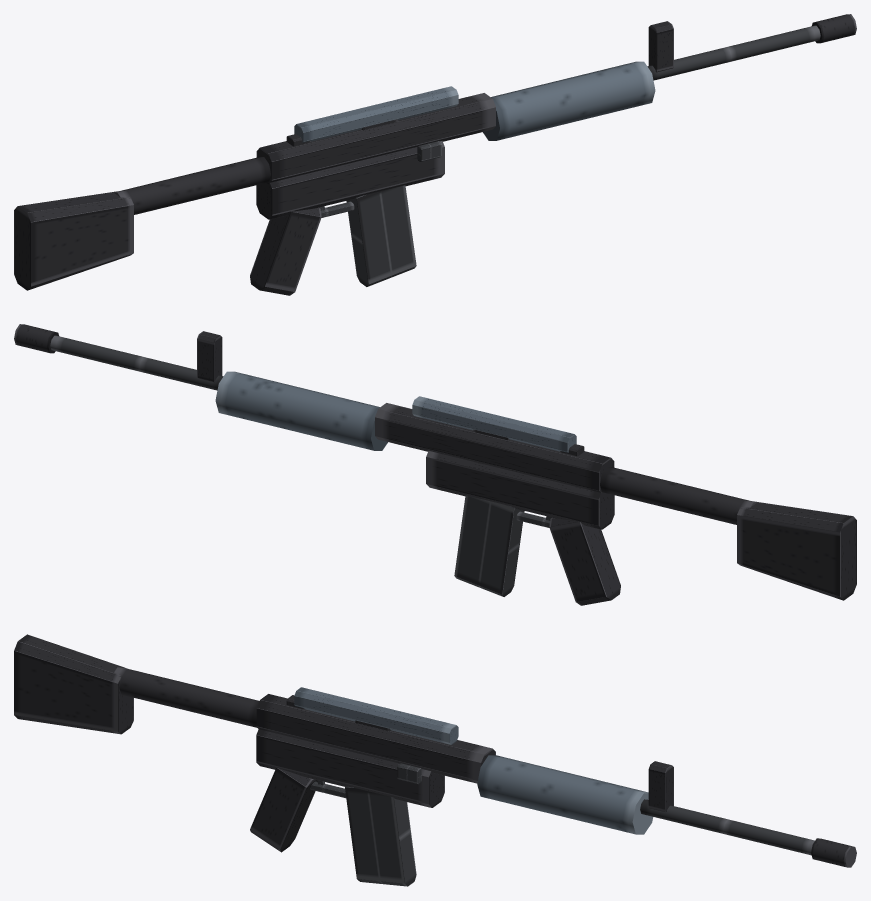
3 views of the same model, one above another, from view 1: azimuth 30°, elevation 25°; view 2: azimuth 150°, elevation 25°; view 3: azimuth 330°, elevation 25° (orthographic).
Parts seen in each view (by area): view 1: M4A1_1P; view 2: M4A1_1P; view 3: M4A1_1P.
Boxes of the visible parts, bbox=[...] form: M4A1_1P: bbox=[14, 14, 856, 295]; M4A1_1P: bbox=[14, 324, 856, 605]; M4A1_1P: bbox=[14, 634, 856, 886].
Size of the model in its own units: 0.96 by 0.2074 by 0.047.
Materials: 1 (1 with a texture image).
